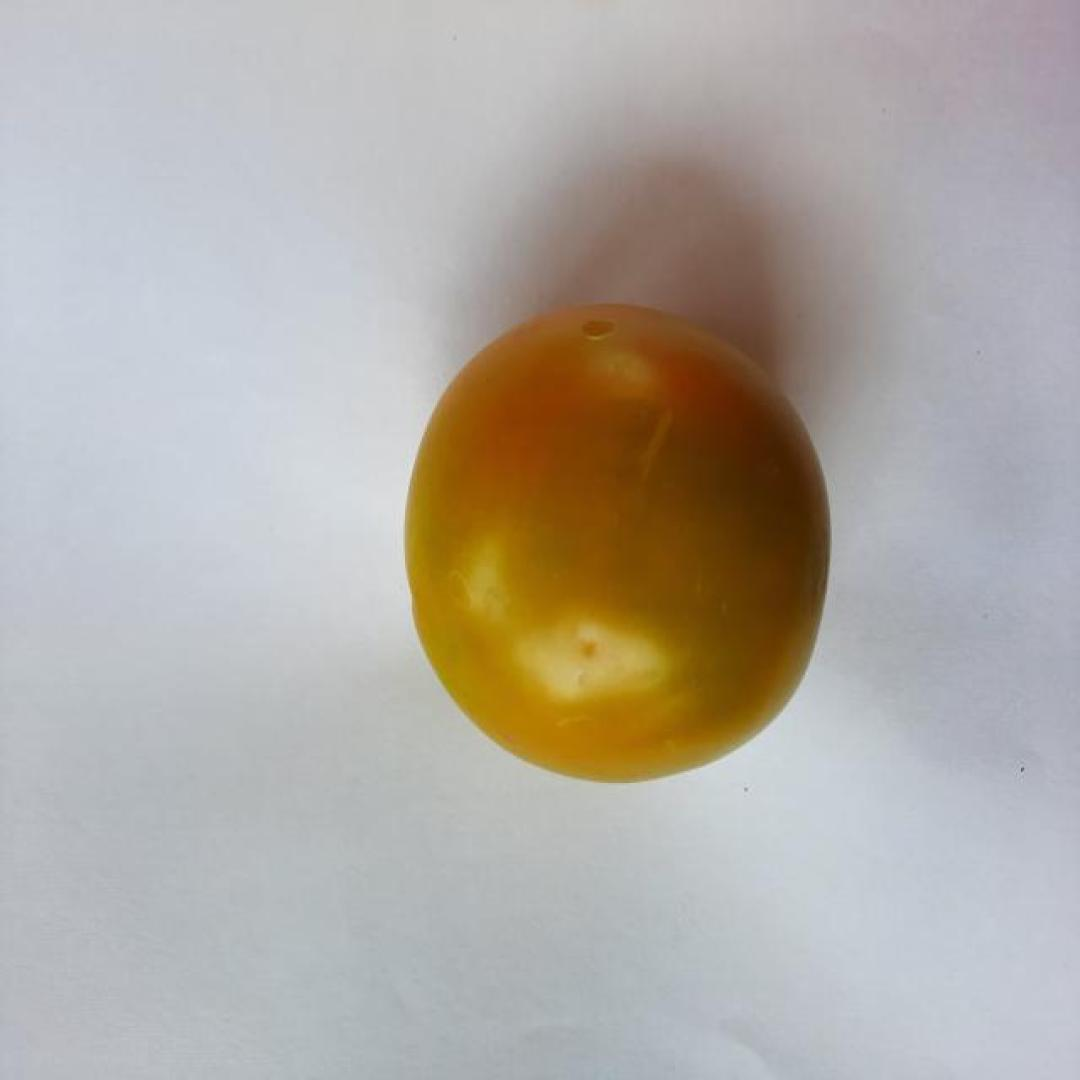setengah_matang: (398, 296, 837, 792)
